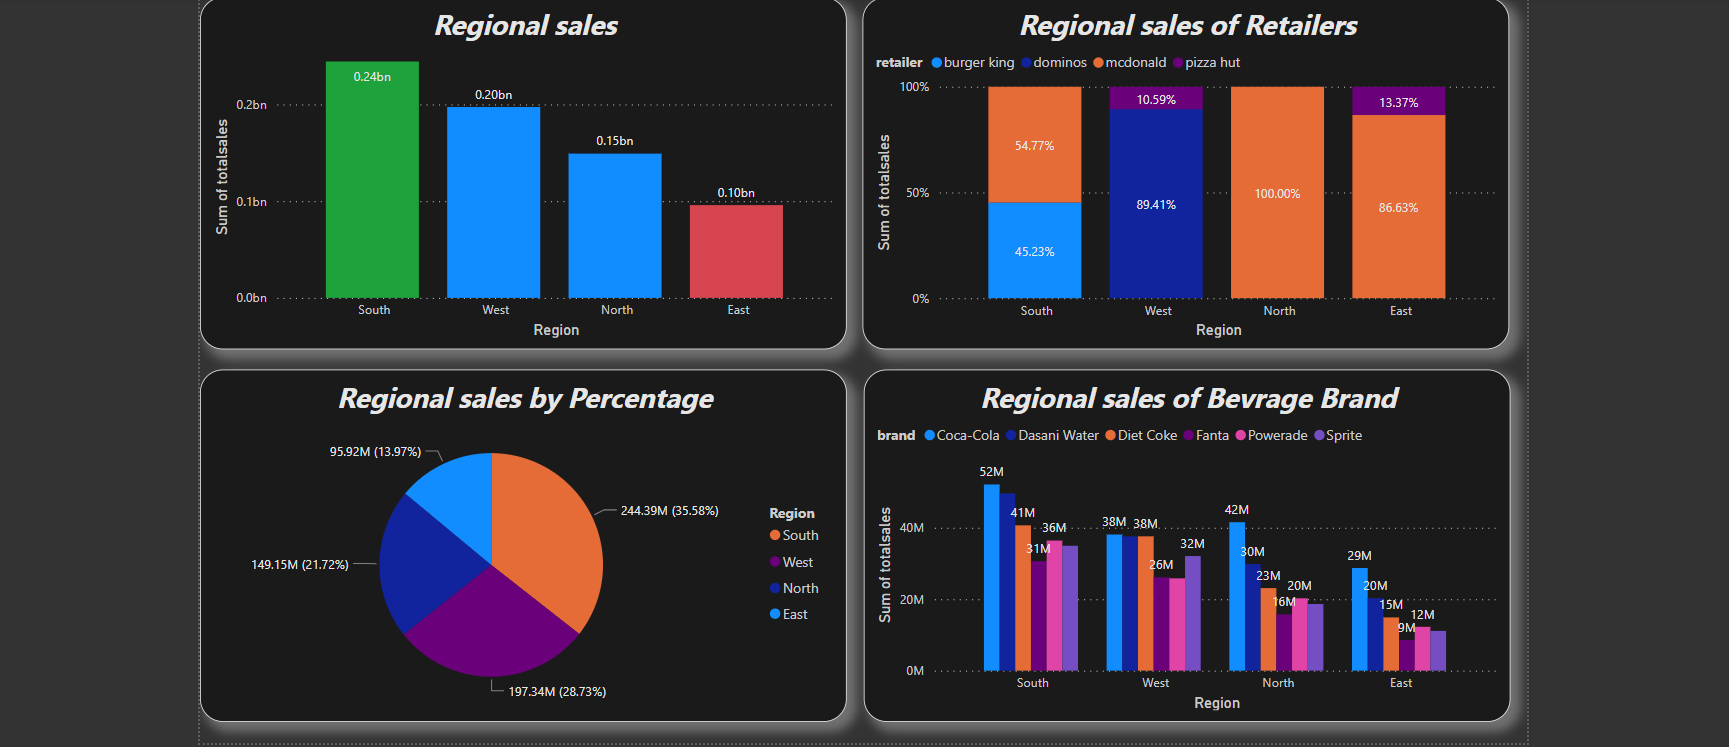

What the dashboard file says about the page in this screenshot:
{"tool":"powerbi","page":{"name":"Page 5","canvas":[1280,720],"ordinal":4},"visuals":[{"type":"columnChart","title":"Regional sales","fields":{"Category":["bv india.Region"],"Y":["Sum(bv india.totalsales)"]},"box":[0,0,624.4,340.3],"z":0},{"type":"pieChart","title":"Regional sales by Percentage","fields":{"Category":["bv india.Region"],"Y":["Sum(bv india.totalsales)"]},"box":[0,359.5,624.4,340.3],"z":1},{"type":"hundredPercentStackedColumnChart","title":"Regional sales of Retailers","fields":{"Category":["bv india.Region"],"Y":["Sum(bv india.totalsales)"],"Series":["bv india.retailer"]},"box":[639.5,0,624.4,340.3],"z":2},{"type":"clusteredColumnChart","title":"Regional sales of Bevrage Brand","fields":{"Category":["bv india.Region"],"Y":["Sum(bv india.totalsales)"],"Series":["bv india.brand"]},"box":[640.8,359.5,624.4,340.3],"z":3}]}

Visuals, with their boxes on the page's 1280x720 design canvas (x1, y1, x2, y2). These are canvas units, not pixel positions in the 1729x747 screenshot, which may show the page scaled, cropped or inside an application window:
"Regional sales" columnChart: <region>0, 0, 624, 340</region>
"Regional sales by Percentage" pieChart: <region>0, 360, 624, 700</region>
"Regional sales of Retailers" hundredPercentStackedColumnChart: <region>640, 0, 1264, 340</region>
"Regional sales of Bevrage Brand" clusteredColumnChart: <region>641, 360, 1265, 700</region>
